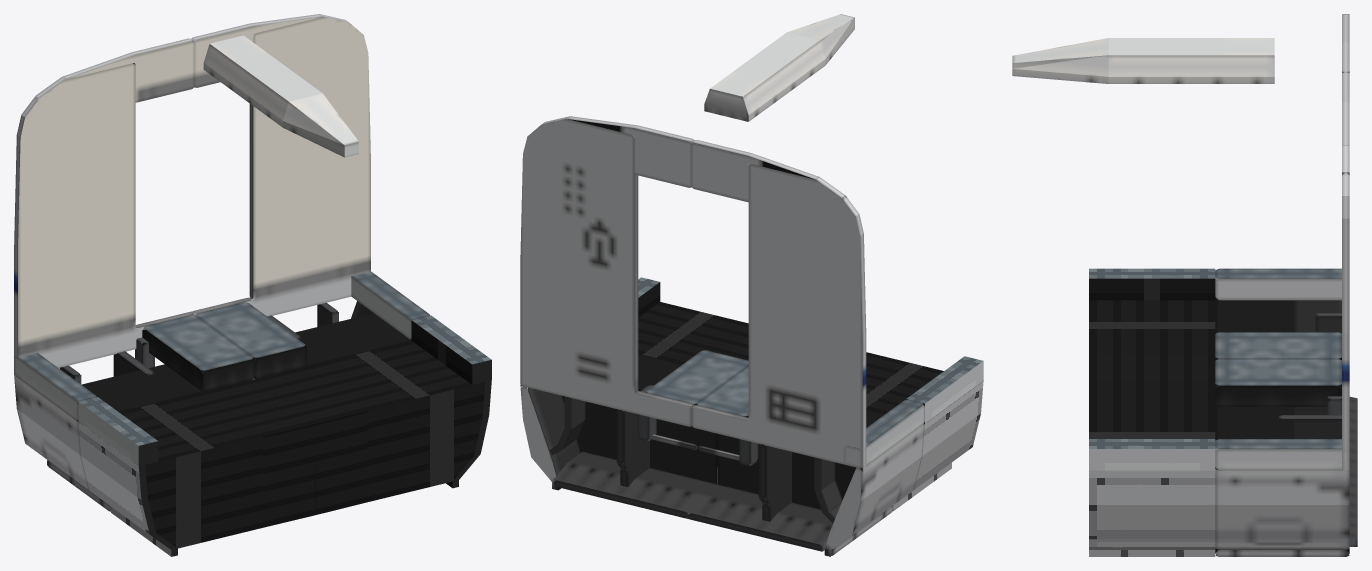
File: body_horizontal_plain.obj
3 renders of one model, left to right at view 1: azimuth 30°, elevation 25°; view 2: azimuth 150°, elevation 25°; view 3: azimuth 270°, elevation 25°, orthographic. The views are drawn at different scales.
Parts seen in each view (by area): view 1: 端面1, 裙板-仪器舱靠近端面R, 裙板-仪器舱靠近端面L, 裙板-仪器舱R, 地板-中间, mesh, 裙板-仪器舱L, 端面2, 防雪风挡骨架, 防雪风挡骨架2; view 2: 端面1, 裙板-仪器舱R, 防雪风挡, 裙板-仪器舱L, 裙板-仪器舱靠近端面R, mesh, 端面2, 裙板-仪器舱靠近端面L, 地板-中间, 防雪风挡骨架, 防雪风挡骨架2, 车钩架; view 3: 裙板-仪器舱靠近端面L, 裙板-仪器舱L, 裙板-仪器舱靠近端面R, mesh, 地板-中间, 裙板-仪器舱R, 端面1, 防雪风挡骨架, 防雪风挡, 端面2, 防雪风挡骨架2.
Boxes of the visible parts, x1,y1,x2,y2 form: 端面1: (14,14,370,375); 裙板-仪器舱靠近端面R: (78,379,315,556); 裙板-仪器舱靠近端面L: (255,315,491,514); 裙板-仪器舱R: (14,352,252,511); 地板-中间: (142,302,307,390); mesh: (203,35,358,157); 裙板-仪器舱L: (252,271,430,379); 端面2: (63,14,321,102); 防雪风挡骨架: (113,315,301,376); 防雪风挡骨架2: (59,302,338,384); 端面1: (520,116,866,468); 裙板-仪器舱R: (717,400,924,556); 防雪风挡: (553,451,832,551); 裙板-仪器舱L: (520,353,717,490); 裙板-仪器舱靠近端面R: (866,352,983,511); mesh: (704,14,854,121); 端面2: (568,116,818,202); 裙板-仪器舱靠近端面L: (638,277,748,364); 地板-中间: (646,350,748,417); 防雪风挡骨架: (616,384,791,521); 防雪风挡骨架2: (550,396,842,523); 车钩架: (637,414,758,465); 裙板-仪器舱靠近端面L: (1089,380,1215,556); 裙板-仪器舱L: (1215,405,1349,556); 裙板-仪器舱靠近端面R: (1089,268,1215,380); mesh: (1012,38,1274,83); 地板-中间: (1215,332,1341,406); 裙板-仪器舱R: (1215,268,1341,333); 端面1: (1342,14,1349,470); 防雪风挡骨架: (1279,407,1341,438); 防雪风挡: (1349,396,1357,546); 端面2: (1342,14,1349,145); 防雪风挡骨架2: (1315,313,1341,333).
Bounding box in the file's own units: 3.38 × 3.81 × 2.73.
